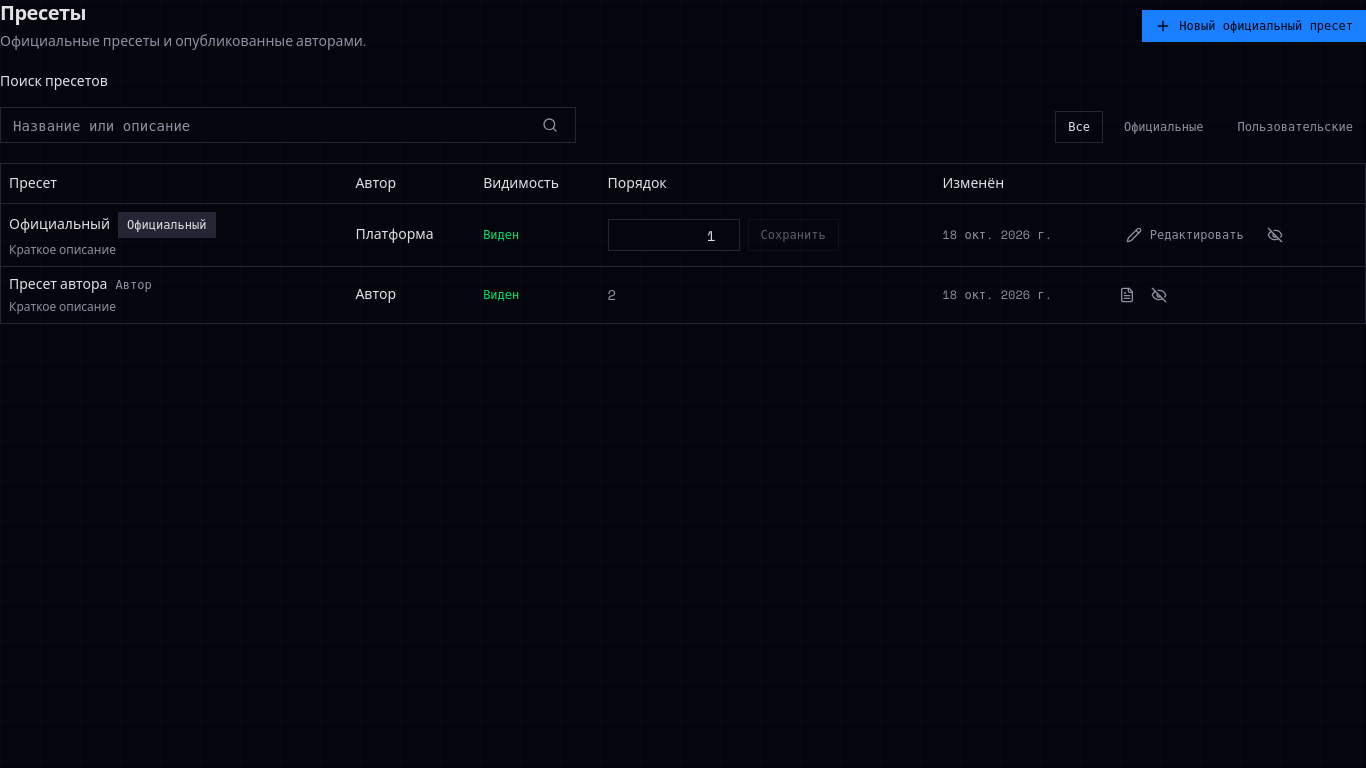
Test: AdminPresets › visibility error reports failure and keeps the old status
expect the text "Пресет автора" is shown: met, box [9,275,108,295]
Click the button named "Скрыть пресет: Пресет автора". click: (1159, 295)
box: [1145,281,1173,309]
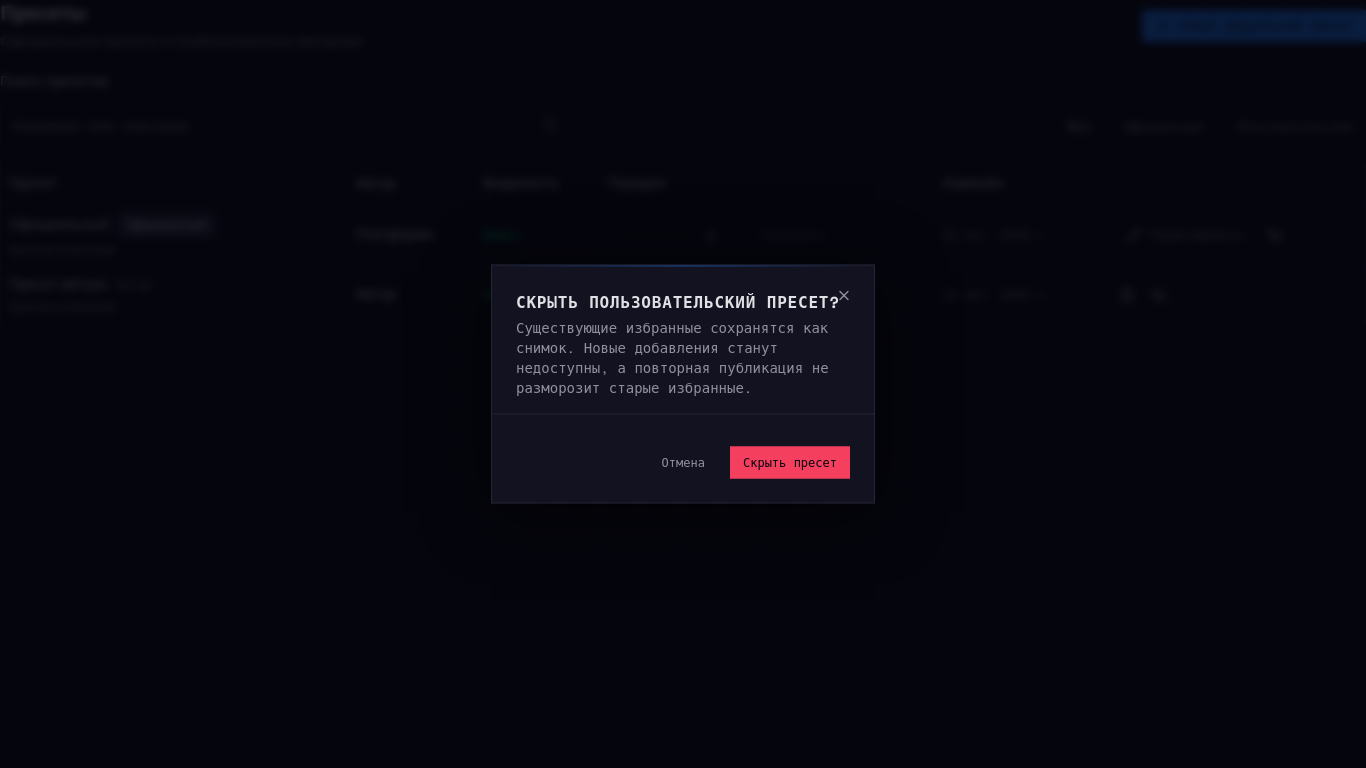
Click the button "Скрыть пресет". click: (790, 462)
box: [730,446,850,478]
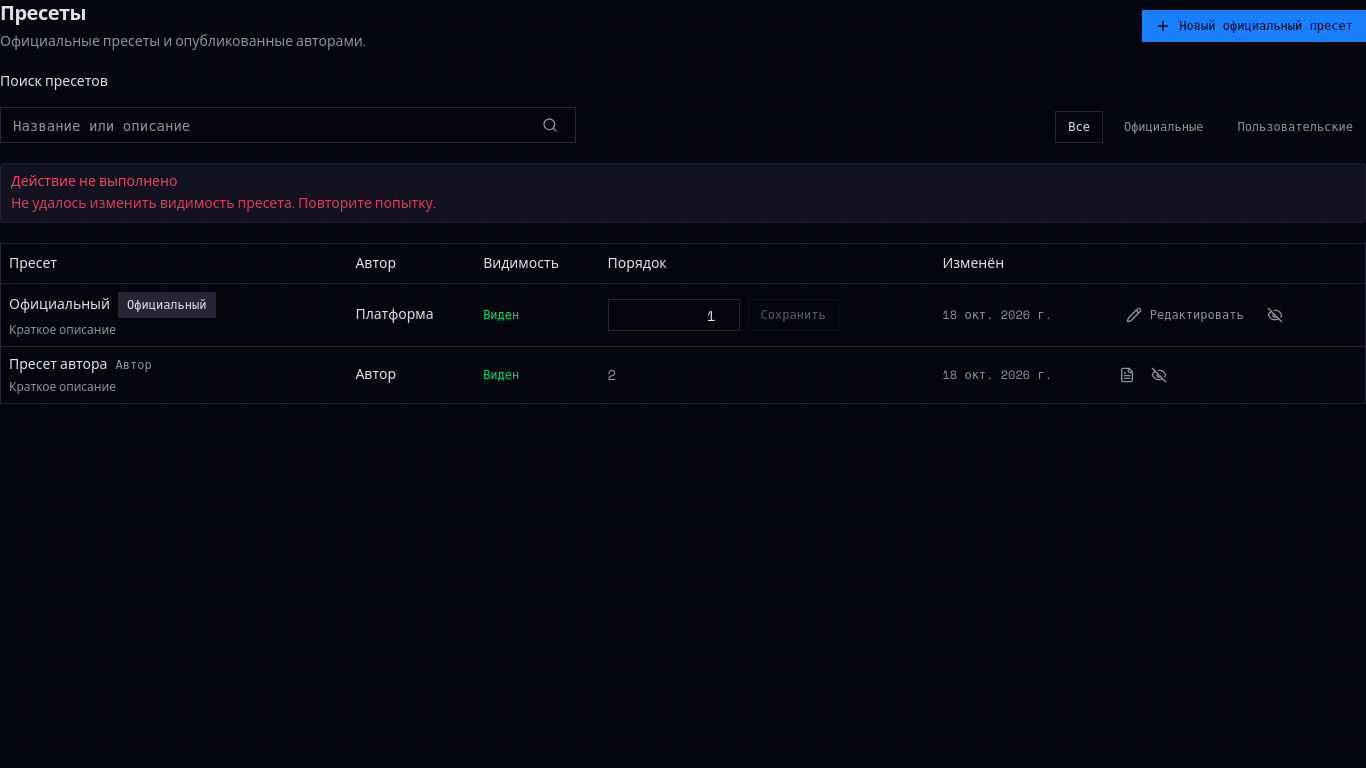
expect the button named "Скрыть пресет: Пресет автора" is shown: met, box [1145,361,1173,389]
expect the message is shown: met, box [0,163,1365,223]
expect the heading "Скрыть пользовательский пресет?" is gone: met
